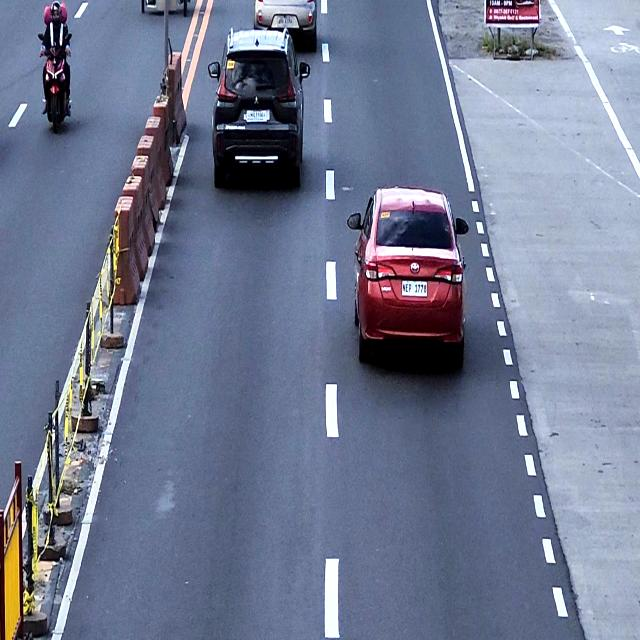Car: (347, 185, 469, 365), (208, 25, 310, 188), (254, 0, 318, 55)
License-Plate: (401, 278, 428, 297), (246, 109, 267, 123), (278, 14, 295, 26)
Motorcycle: (38, 32, 72, 133)
Tricycle: (141, 0, 190, 17)
